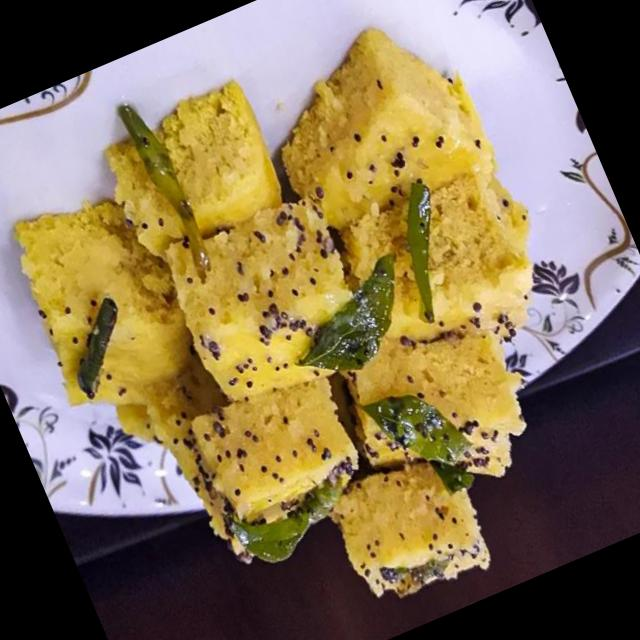dhokla: (0, 14, 633, 640)
